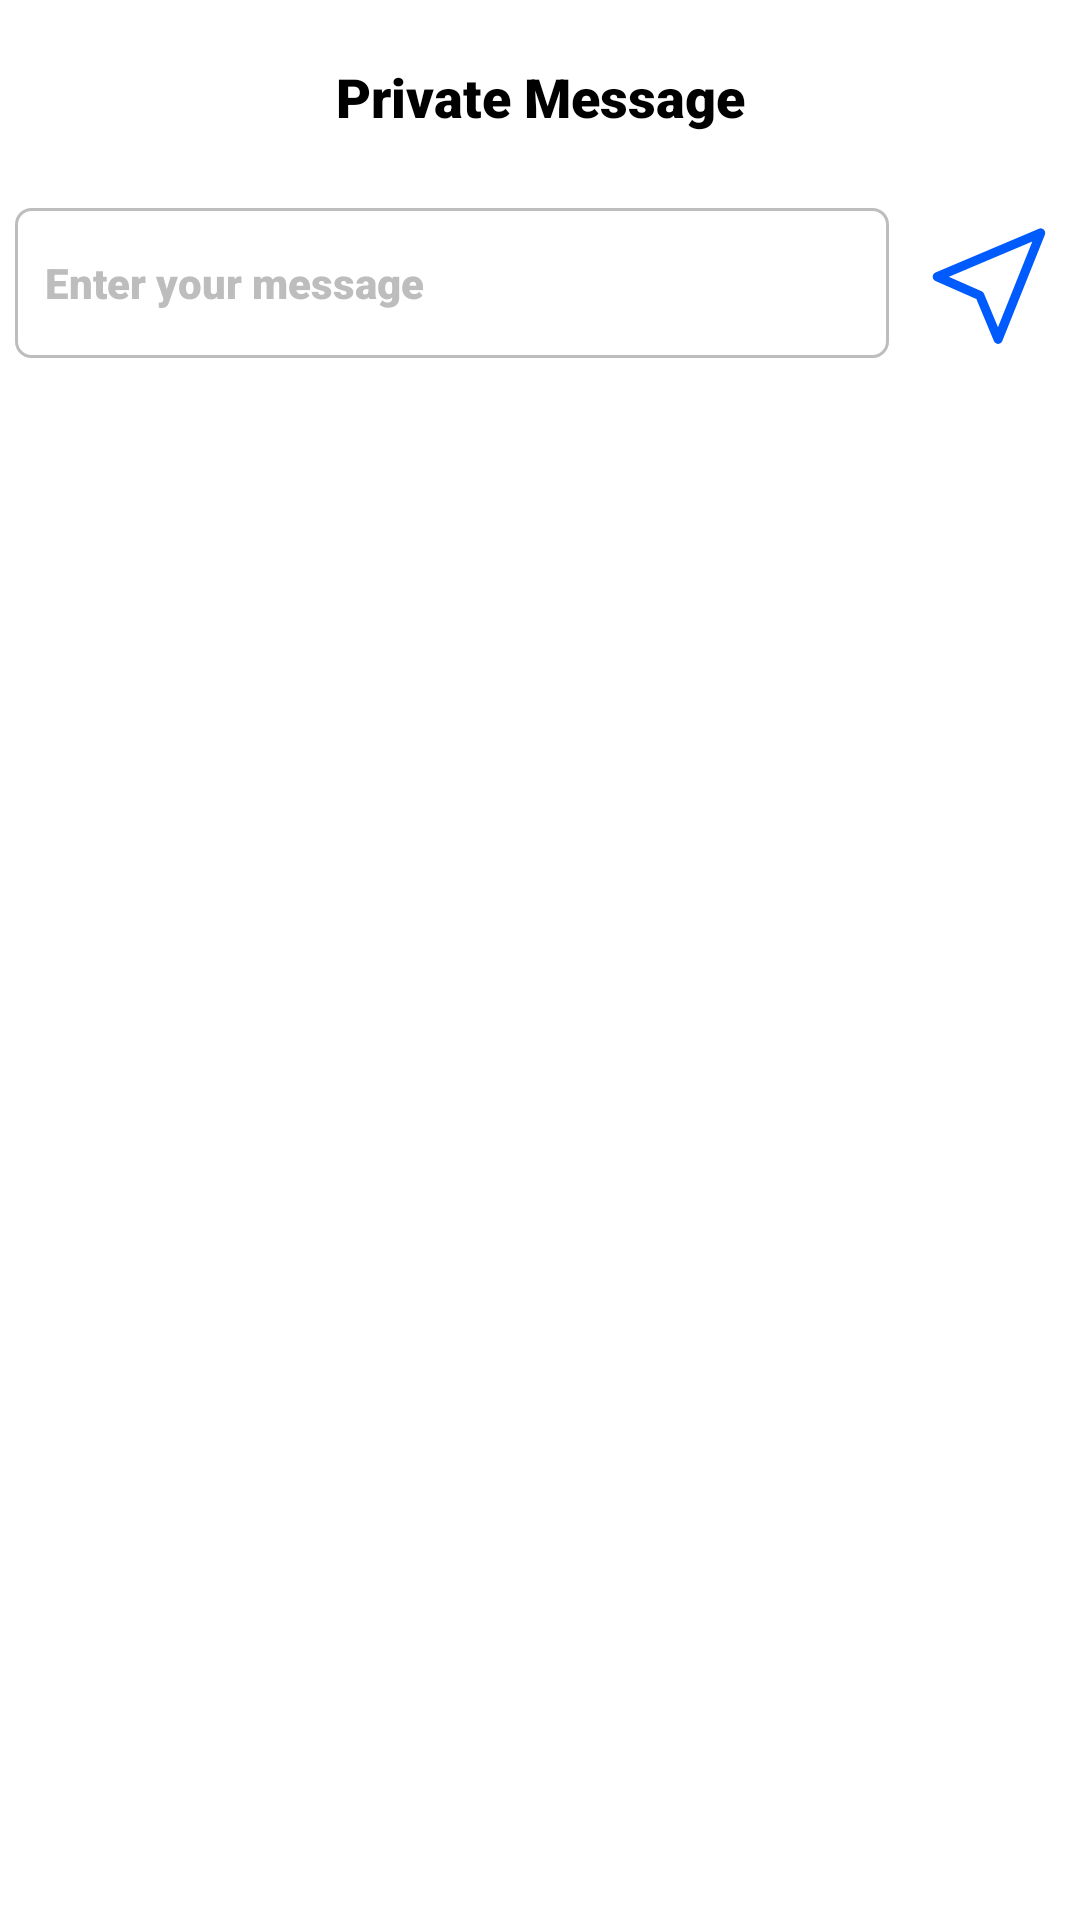

Icons on this 1080px x 1920px Android screen, each with the point to tap as point (x, y):
send: point (989, 286)
